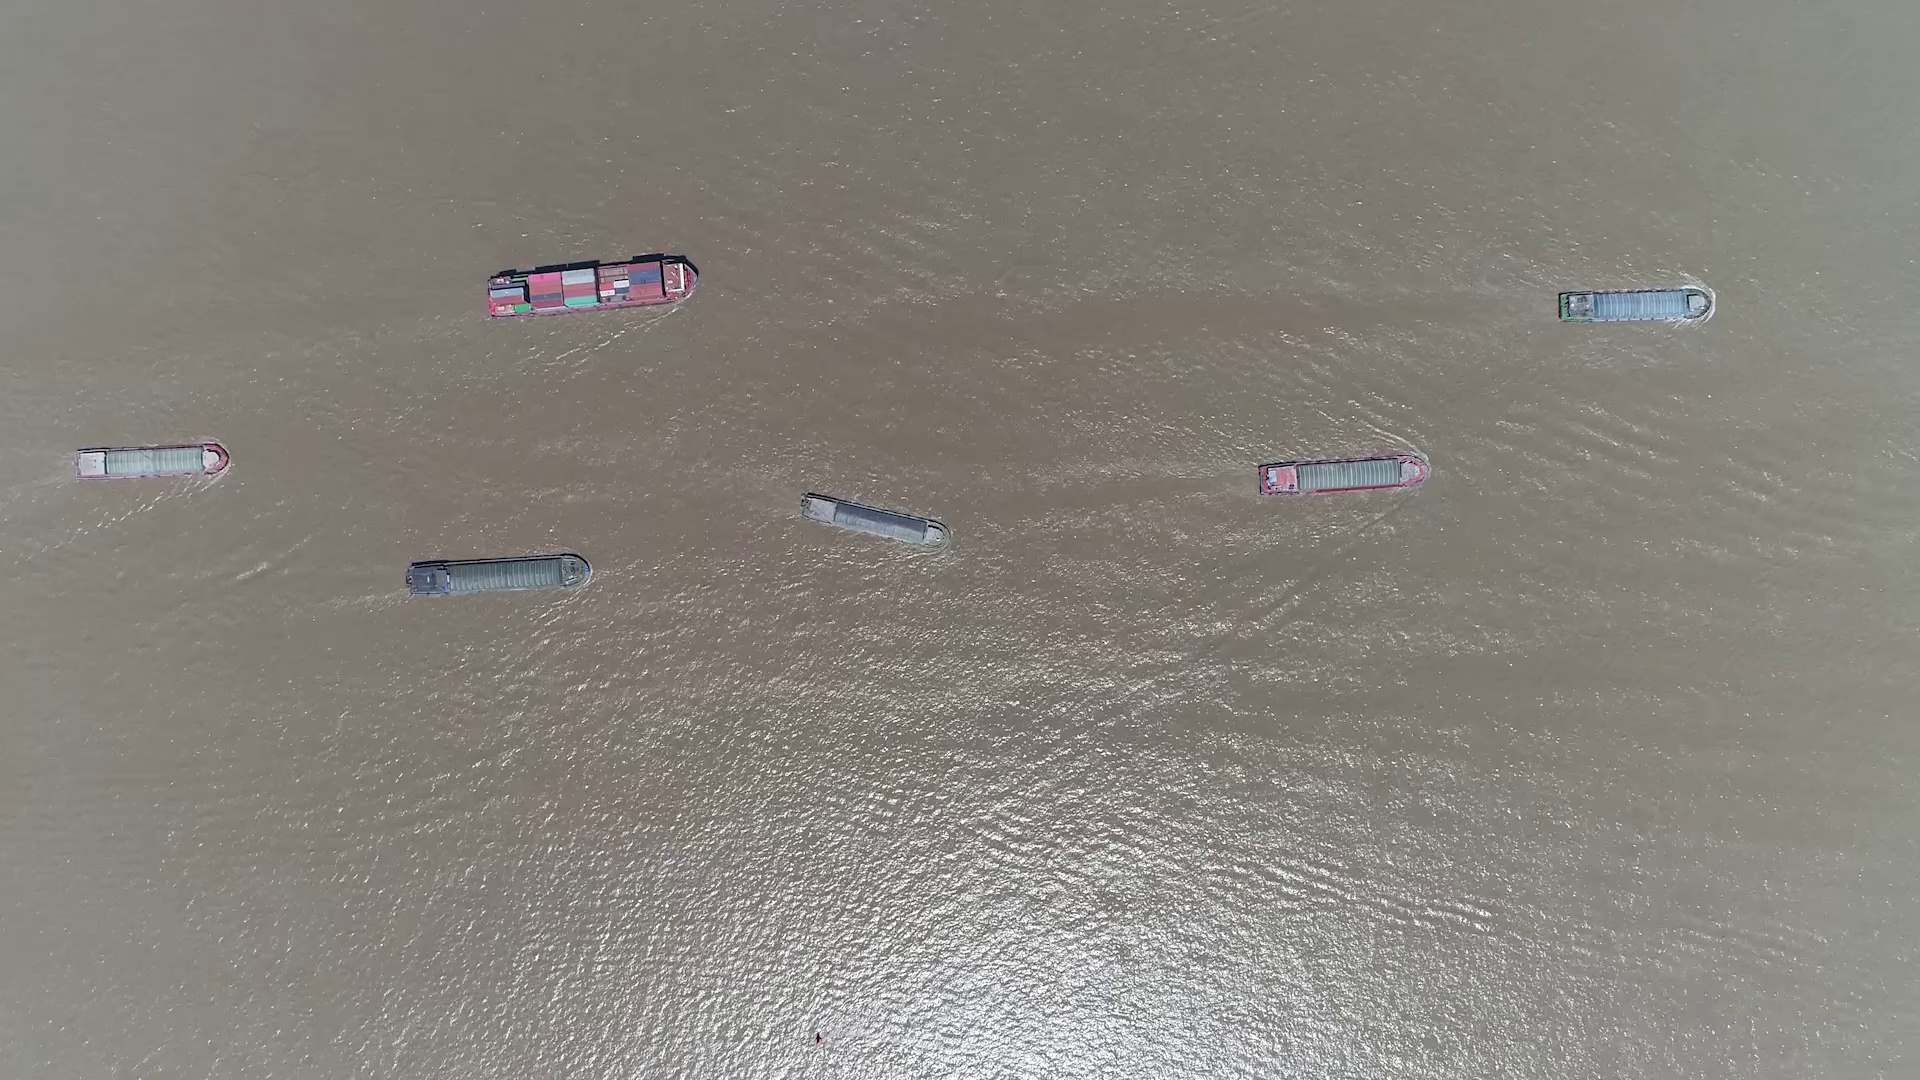ship: (485, 258, 698, 316), (799, 493, 949, 549), (407, 554, 591, 596), (1258, 454, 1429, 498), (74, 444, 229, 480), (1561, 287, 1714, 322)
